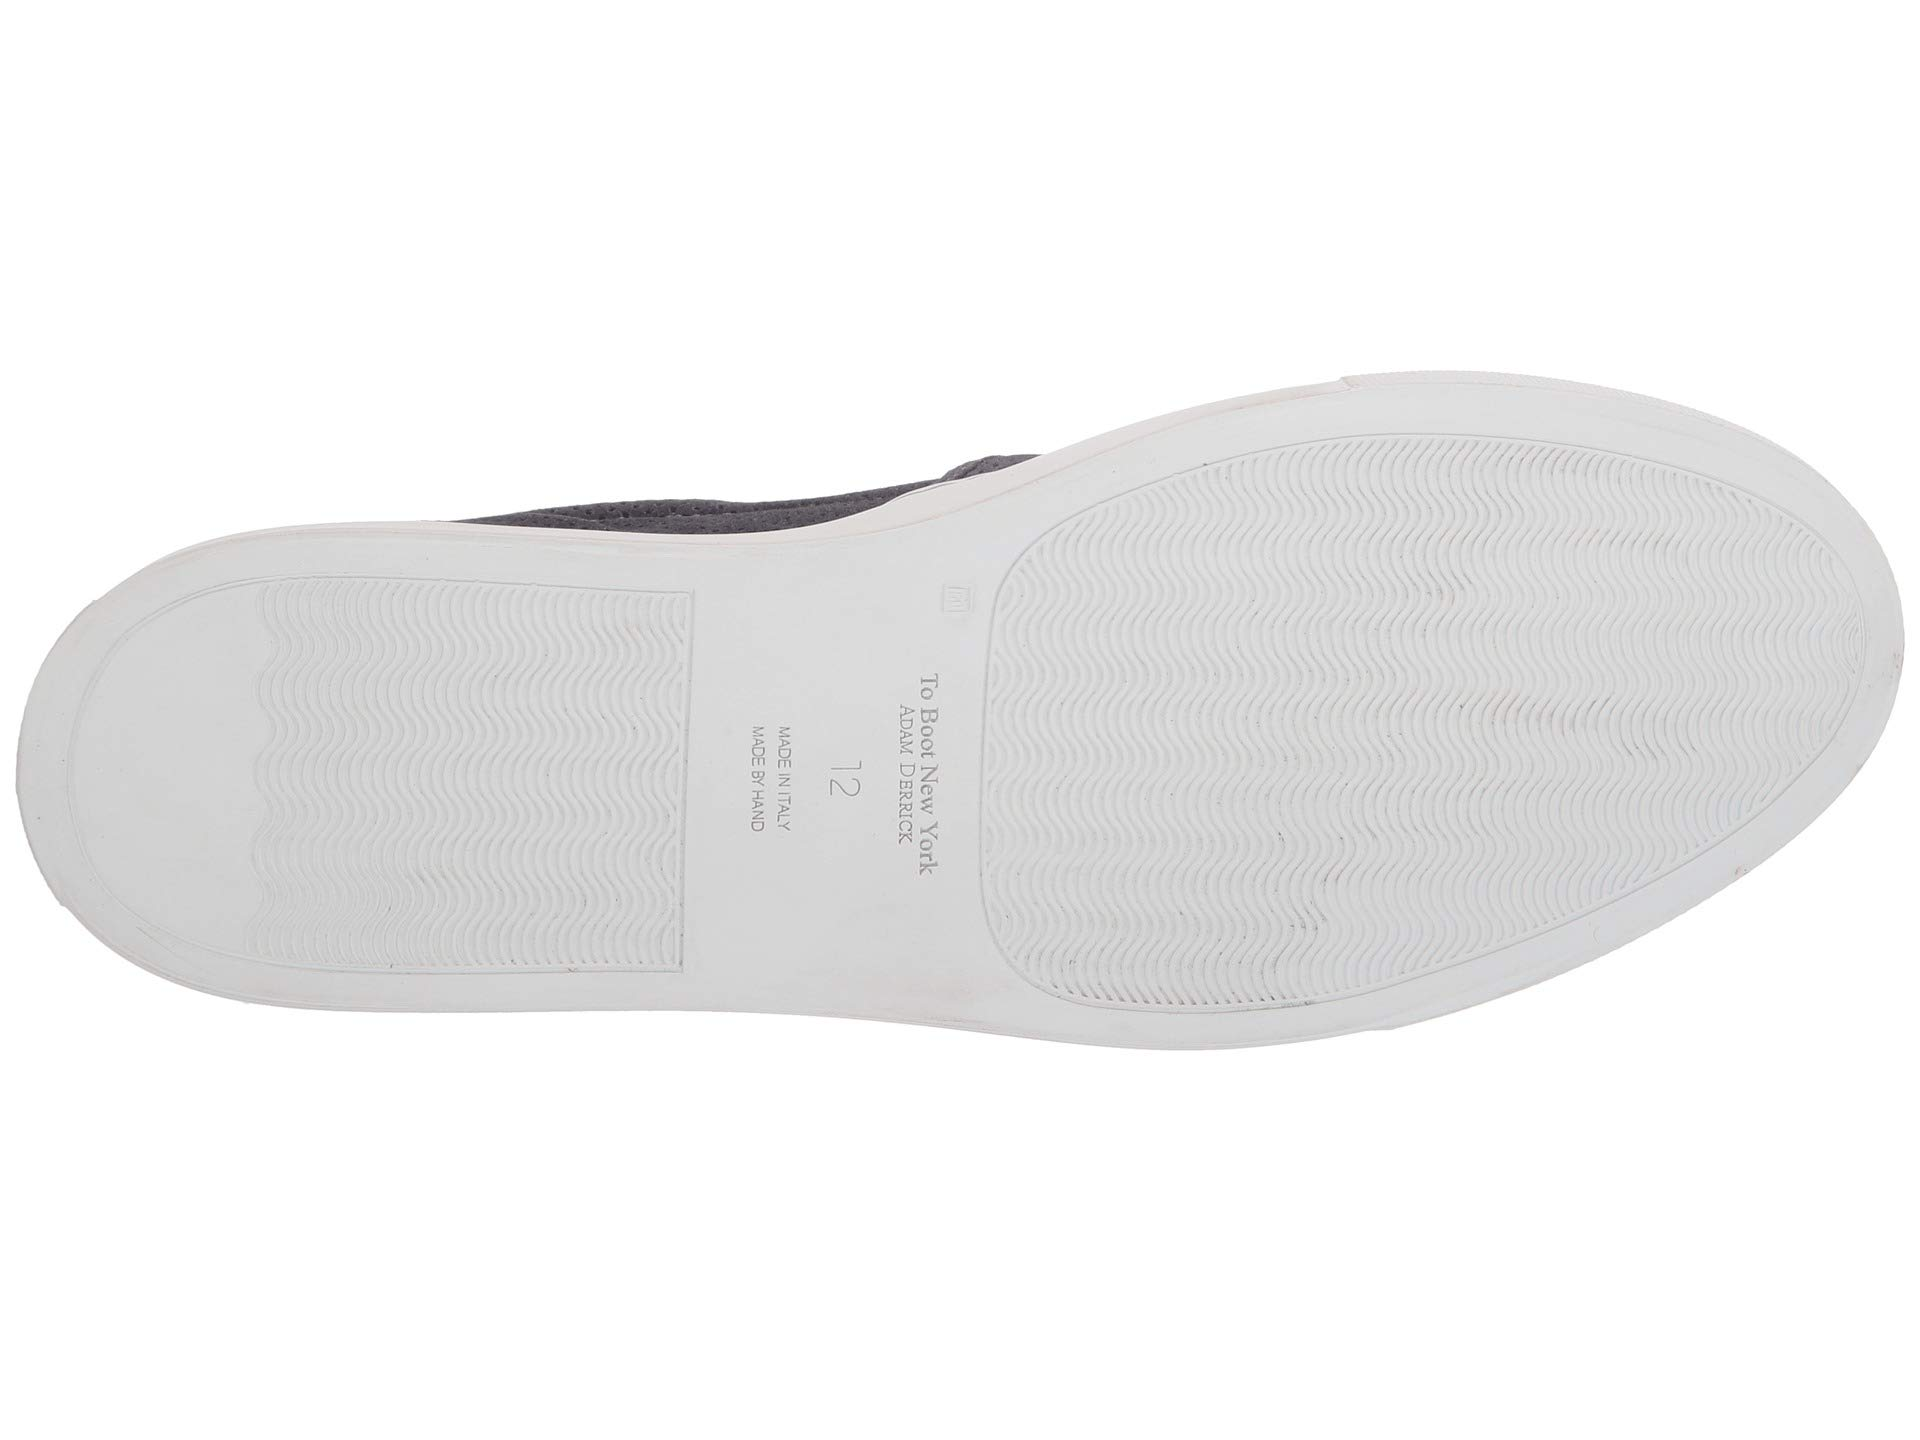chevron: (1119, 516, 1389, 802)
text: (723, 650, 971, 908)
